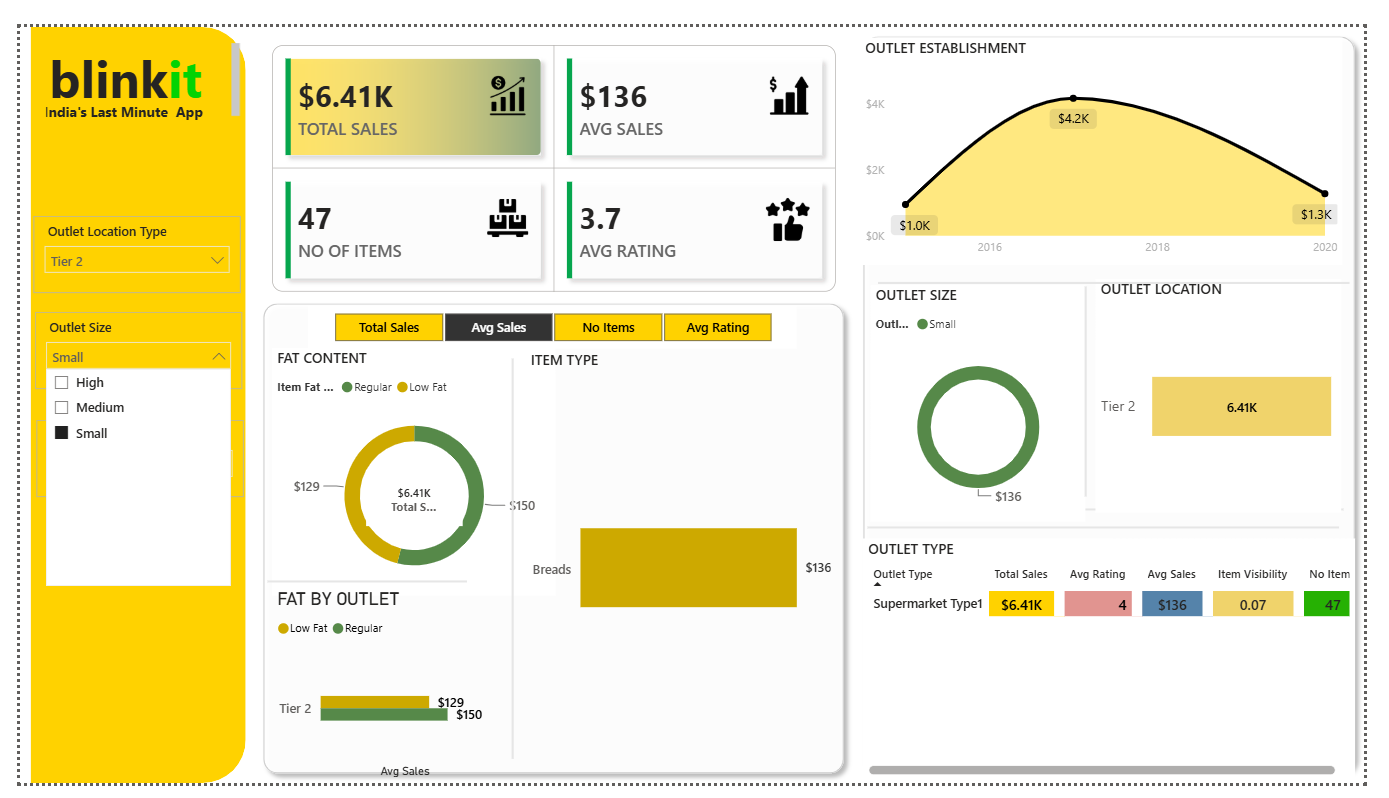

The page's visual inventory and layout, read from the dashboard file:
{"tool":"powerbi","page":{"name":"Page 1","canvas":[1280,720],"ordinal":0},"visuals":[{"type":"shape","box":[10,0,205,720],"z":0},{"type":"textbox","box":[262.8,572.2,204.3,147.2],"z":1000},{"type":"textbox","box":[262.8,378.5,377,84.1],"z":2000},{"type":"textbox","box":[10.5,10.5,204.3,85.6],"z":3000},{"type":"textbox","box":[18,66.1,189.2,30],"z":4000},{"type":"cardVisual","fields":{"Data":["BlinkIT Grocery Data.Total Sales","BlinkIT Grocery Data.Avg Sales","BlinkIT Grocery Data.No Items","BlinkIT Grocery Data.Avg Rating"]},"box":[222.3,0,571.3,270.9],"z":5000},{"type":"shape","box":[222.3,253.8,570.7,465.6],"z":6000},{"type":"donutChart","title":"FAT CONTENT","fields":{"Y":["BlinkIT Grocery Data.Avg Sales"],"Category":["BlinkIT Grocery Data.Item Fat Content"]},"box":[240.3,306.4,270.3,235.8],"z":7000},{"type":"slicer","fields":{"Values":["Matrices.Matrices"]},"box":[274.8,265.8,465.6,40.5],"z":8000},{"type":"cardVisual","fields":{"Data":["BlinkIT Grocery Data.Total Sales"]},"box":[324.4,420.5,102.1,60.1],"z":9000},{"type":"clusteredBarChart","title":"FAT BY OUTLET","fields":{"Y":["BlinkIT Grocery Data.Avg Sales"],"Category":["BlinkIT Grocery Data.Outlet Location Type"],"Series":["BlinkIT Grocery Data.Item Fat Content"]},"box":[240.3,534.7,211.8,184.7],"z":10000},{"type":"shape","box":[235.6,521.3,190,13.3],"z":11000},{"type":"shape","box":[400.5,315.1,138.4,381.4],"z":12000},{"type":"barChart","title":"ITEM TYPE","fields":{"Y":["BlinkIT Grocery Data.Avg Sales"],"Category":["BlinkIT Grocery Data.Item Type"]},"box":[481.5,307.7,296,393.2],"z":13000},{"type":"shape","box":[793.7,0,485.9,718.6],"z":14000},{"type":"lineChart","title":"OUTLET ESTABLISHMENT","fields":{"Category":["BlinkIT Grocery Data.Outlet Establishment Year"],"Y":["BlinkIT Grocery Data.Total Sales"]},"box":[799.6,10.3,459.4,216.5],"z":15000},{"type":"shape","box":[811.3,453.5,449.1,13.2],"z":16000},{"type":"donutChart","title":"OUTLET SIZE","fields":{"Category":["BlinkIT Grocery Data.Outlet Size"],"Y":["BlinkIT Grocery Data.Avg Sales"]},"box":[809.9,245.9,204.7,225.3],"z":17000},{"type":"shape","box":[945.3,247.4,138.4,200.3],"z":18000},{"type":"funnel","title":"OUTLET LOCATION","fields":{"Y":["Sum(BlinkIT Grocery Data.Sales)"],"Category":["BlinkIT Grocery Data.Outlet Location Type"]},"box":[1024.8,240,234.1,222.3],"z":19000},{"type":"shape","box":[816.9,236.8,449.1,13.3],"z":20000},{"type":"shape","box":[806.9,469.7,449.1,13.2],"z":21000},{"type":"pivotTable","title":"OUTLET TYPE","fields":{"Rows":["BlinkIT Grocery Data.Outlet Type"],"Values":["BlinkIT Grocery Data.Total Sales","BlinkIT Grocery Data.Avg Rating","BlinkIT Grocery Data.Avg Sales","Avg(BlinkIT Grocery Data.Item Visibility)","BlinkIT Grocery Data.No Items"]},"box":[806.9,488.9,449.1,229.7],"z":22000},{"type":"slicer","fields":{"Values":["BlinkIT Grocery Data.Outlet Location Type"]},"box":[13.3,179.6,197.3,73.6],"z":23000},{"type":"slicer","fields":{"Values":["BlinkIT Grocery Data.Outlet Size"]},"box":[14.7,270.9,197.3,73.6],"z":24000},{"type":"slicer","fields":{"Values":["BlinkIT Grocery Data.Item Type"]},"box":[16.2,374,197.3,73.6],"z":25000}]}

Visuals, with their boxes in screenshot pixels (x1, y1, x2, y2), scaled from the page's 1280x720 canvas onto the 1389x798 screenshot:
shape: rect(11, 0, 233, 797)
textbox: rect(285, 634, 507, 797)
textbox: rect(285, 420, 694, 513)
textbox: rect(11, 12, 233, 107)
textbox: rect(20, 73, 225, 107)
cardVisual - BlinkIT Grocery Data.Total Sales x BlinkIT Grocery Data.Avg Sales: rect(241, 0, 861, 300)
shape: rect(241, 281, 861, 797)
"FAT CONTENT" donutChart: rect(261, 340, 554, 601)
slicer - Matrices.Matrices: rect(298, 295, 803, 339)
cardVisual - BlinkIT Grocery Data.Total Sales: rect(352, 466, 463, 533)
"FAT BY OUTLET" clusteredBarChart: rect(261, 593, 491, 797)
shape: rect(256, 578, 462, 593)
shape: rect(435, 349, 585, 772)
"ITEM TYPE" barChart: rect(523, 341, 844, 777)
shape: rect(861, 0, 1388, 796)
"OUTLET ESTABLISHMENT" lineChart: rect(868, 11, 1366, 251)
shape: rect(880, 503, 1368, 517)
"OUTLET SIZE" donutChart: rect(879, 273, 1101, 522)
shape: rect(1026, 274, 1176, 496)
"OUTLET LOCATION" funnel: rect(1112, 266, 1366, 512)
shape: rect(886, 262, 1374, 277)
shape: rect(876, 521, 1363, 535)
"OUTLET TYPE" pivotTable: rect(876, 542, 1363, 796)
slicer - BlinkIT Grocery Data.Outlet Location Type: rect(14, 199, 229, 281)
slicer - BlinkIT Grocery Data.Outlet Size: rect(16, 300, 230, 382)
slicer - BlinkIT Grocery Data.Item Type: rect(18, 415, 232, 496)
